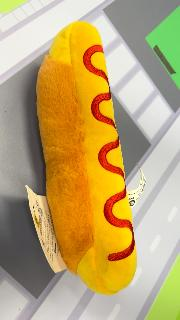hotdog: (36, 21, 138, 296)
